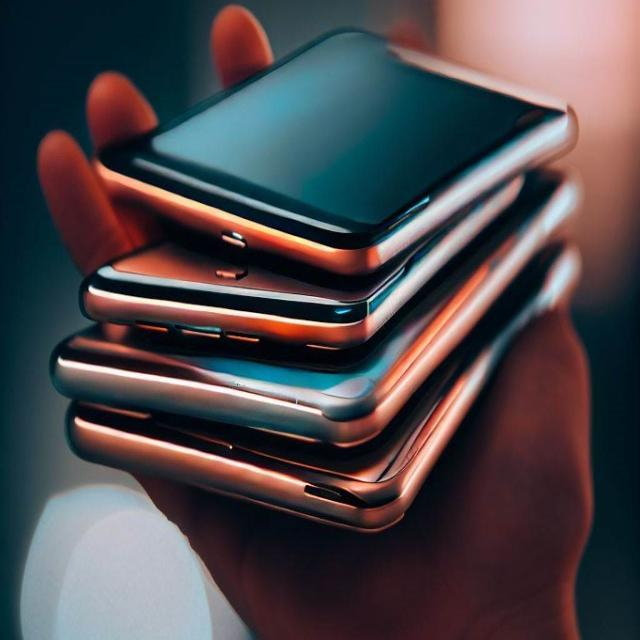mobile: (58, 240, 581, 524), (43, 169, 580, 405), (102, 30, 576, 246), (71, 160, 523, 328)
